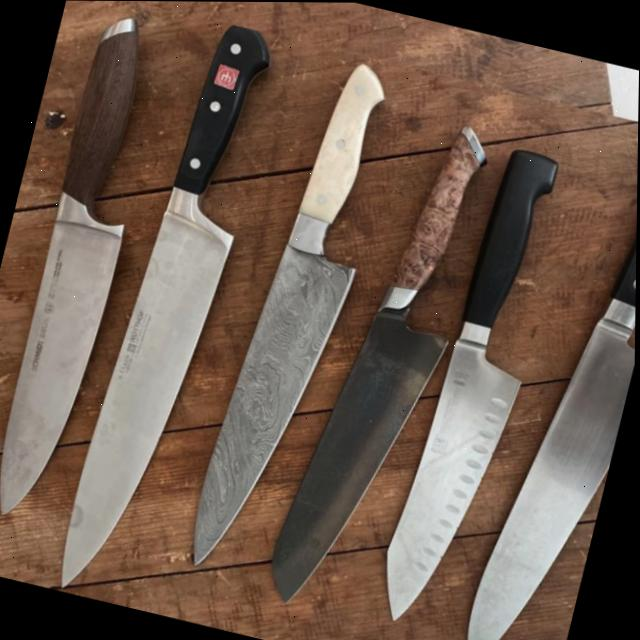knife: (229, 94, 539, 640), (55, 6, 282, 608), (169, 57, 414, 589), (450, 116, 639, 640), (376, 144, 572, 640), (0, 6, 172, 535)
